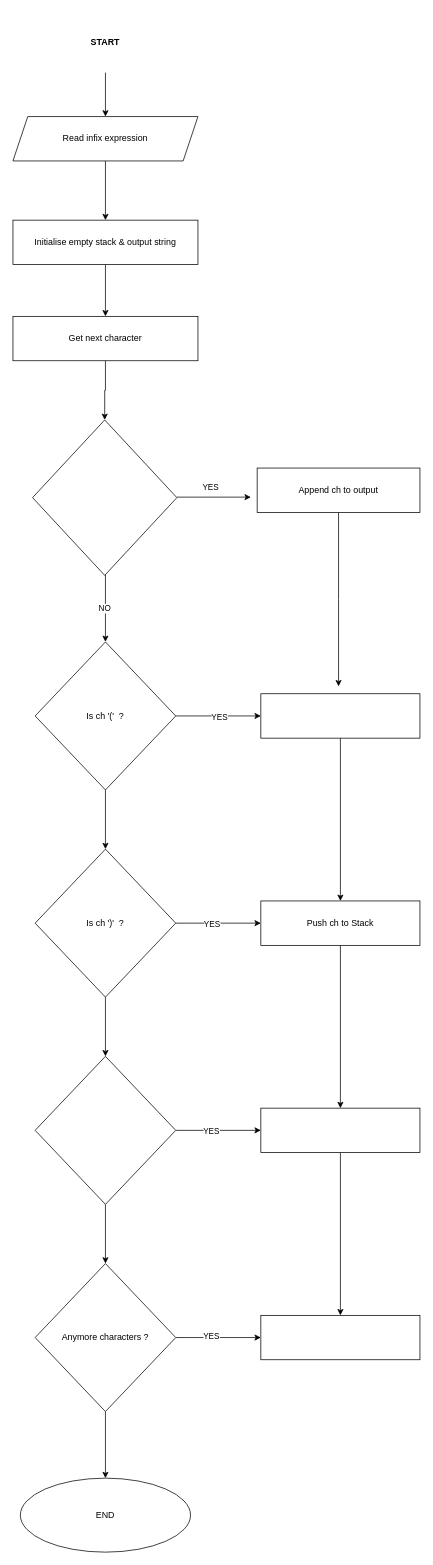
Some shapes in this 433 by 1565 pixel diagram are drawn without their labels. Each missing label, with the box of its shape:
Is ch an oparator (+,-,*,/) ?: (34, 1056, 176, 1204)
Is ch an operand ?: (32, 419, 177, 575)
Pop all remaining operators from Stack to Output: (260, 1315, 420, 1360)
Pop from stack & Append to Output to Output until '(' is found: (260, 693, 420, 738)
While stack not empty AND precedence(top) >= precedence(ch) Pop & Append: (260, 1107, 420, 1153)
